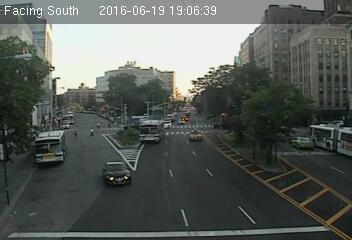neg: (39, 142, 68, 180), (98, 156, 126, 194), (90, 59, 115, 92), (256, 140, 280, 172), (141, 115, 164, 146), (195, 61, 216, 88), (139, 66, 159, 93), (300, 73, 318, 98), (176, 143, 194, 167), (219, 125, 237, 149), (257, 86, 275, 110), (57, 83, 75, 107), (156, 190, 174, 214), (57, 209, 74, 231)
